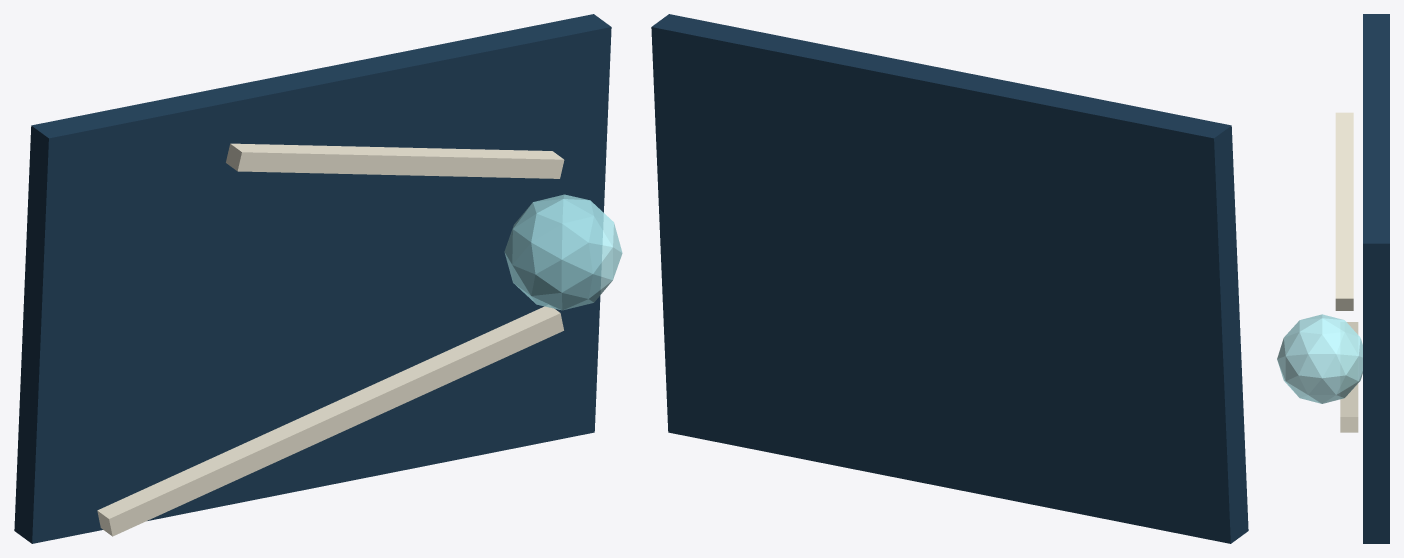
File: 02_world_prop_polish.glb
3 renders of one model, left to right at view 1: azimuth 30°, elevation 25°; view 2: azimuth 150°, elevation 25°; view 3: azimuth 270°, elevation 25°, orthographic. The views are drawn at different scales.
Visible parts, largest first — view 1: object_overlay_plate, edge_wear_a, glow_socket, edge_wear_b; view 2: object_overlay_plate; view 3: object_overlay_plate, glow_socket, edge_wear_b, edge_wear_a.
Part boxes in pixels (box(x1,y1,x2,y2)): object_overlay_plate: box(14, 14, 611, 543); edge_wear_a: box(97, 305, 563, 536); glow_socket: box(504, 194, 622, 310); edge_wear_b: box(226, 143, 564, 178); object_overlay_plate: box(651, 14, 1248, 543); object_overlay_plate: box(1363, 14, 1389, 543); glow_socket: box(1277, 314, 1362, 403); edge_wear_b: box(1335, 112, 1353, 310); edge_wear_a: box(1340, 322, 1358, 432).
Bounding box in the file's own units: 1.13 × 0.7975 × 0.25.
